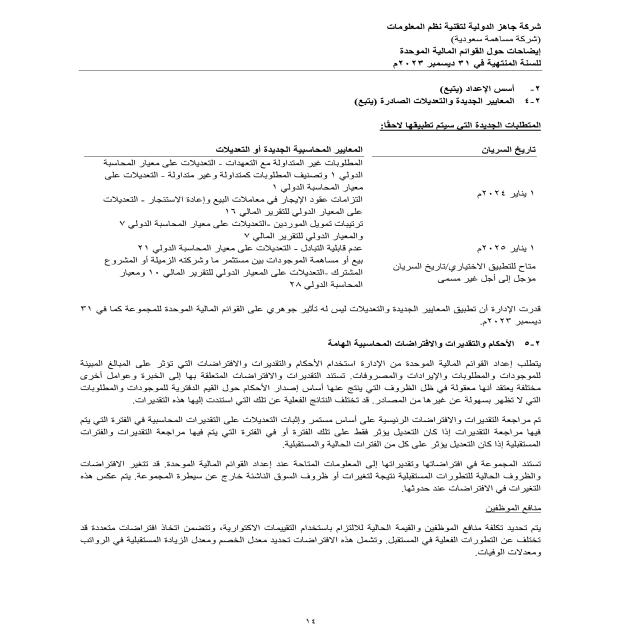notes: (390, 45, 544, 55)
table: (69, 139, 560, 296)
